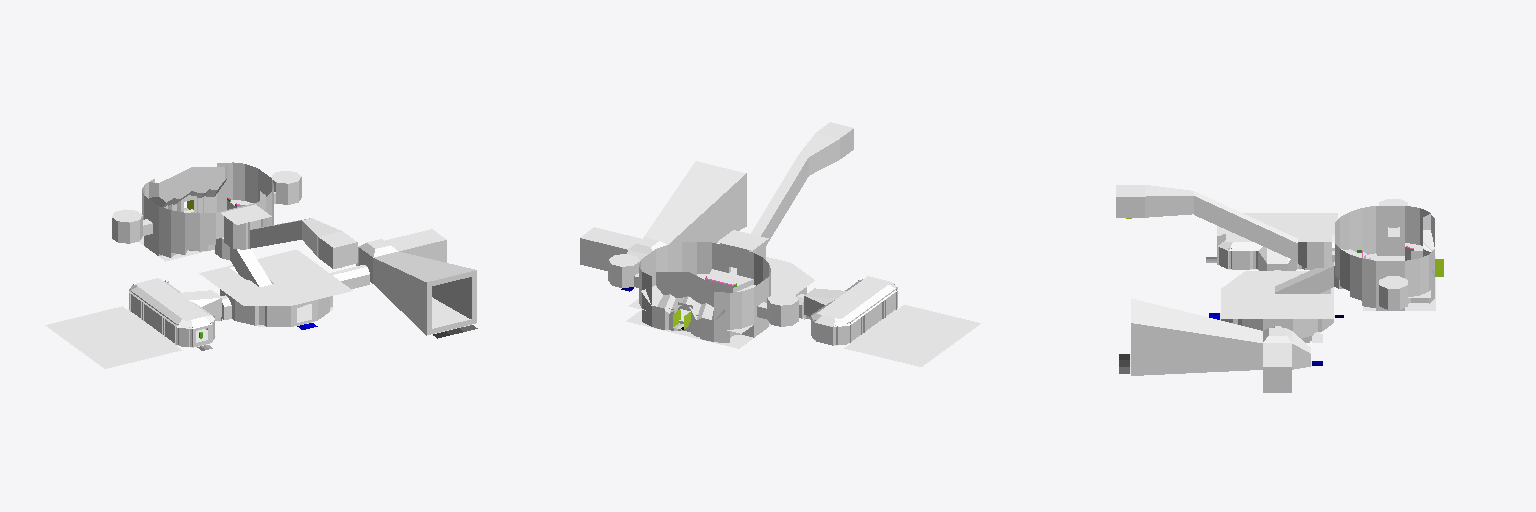
File: Inside Castle Area 2.obj
3 renders of one model, left to right at view 1: azimuth 30°, elevation 25°; view 2: azimuth 150°, elevation 25°; view 3: azimuth 270°, elevation 25°, orthographic.
Bounding box in the file's own units: 29414 × 10650 × 22906.